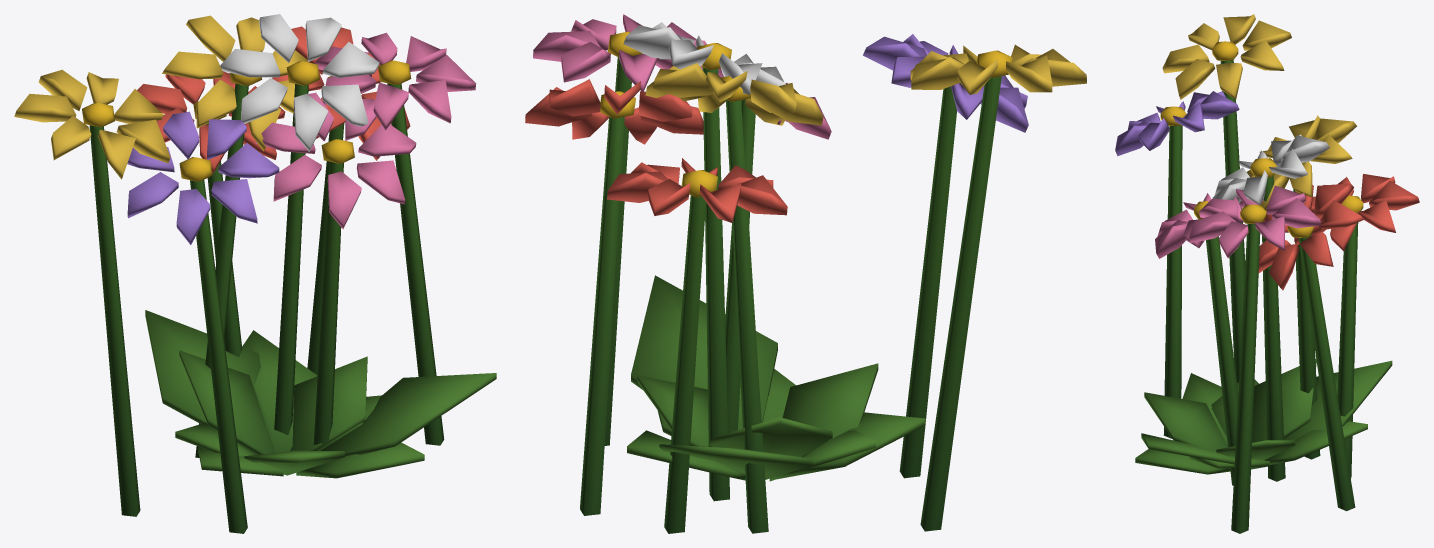
File: flowers_mixed_lod1.glb
3 renders of one model, left to right at view 1: azimuth 30°, elevation 25°; view 2: azimuth 150°, elevation 25°; view 3: azimuth 270°, elevation 25°, orthographic. The views are drawn at different scales.
Parts seen in each view (by area): view 1: flowers_mixed_lod1; view 2: flowers_mixed_lod1; view 3: flowers_mixed_lod1.
Part boxes in pixels (x1,y1,x2,y2): flowers_mixed_lod1: (14, 14, 496, 533); flowers_mixed_lod1: (525, 14, 1086, 533); flowers_mixed_lod1: (1115, 14, 1419, 533).
Size of the model in its own units: 0.5209 by 0.4942 by 0.3764.
